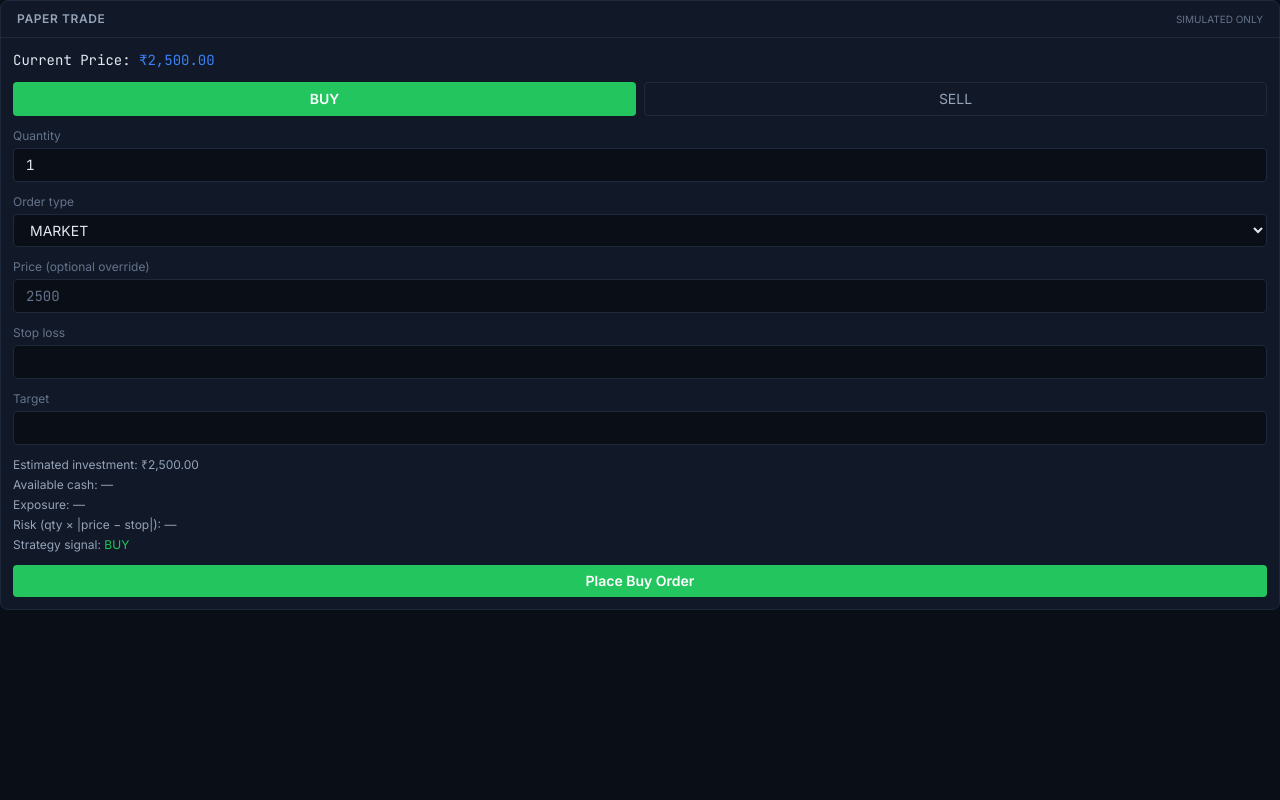
Test: TradePanel › submits a paper BUY with stop loss and target through the backend client
The image size is (1280, 800).
Replace the text in the number field labelled "Quantity" with "2" at coordinates (640, 165), box [13, 148, 1267, 182]
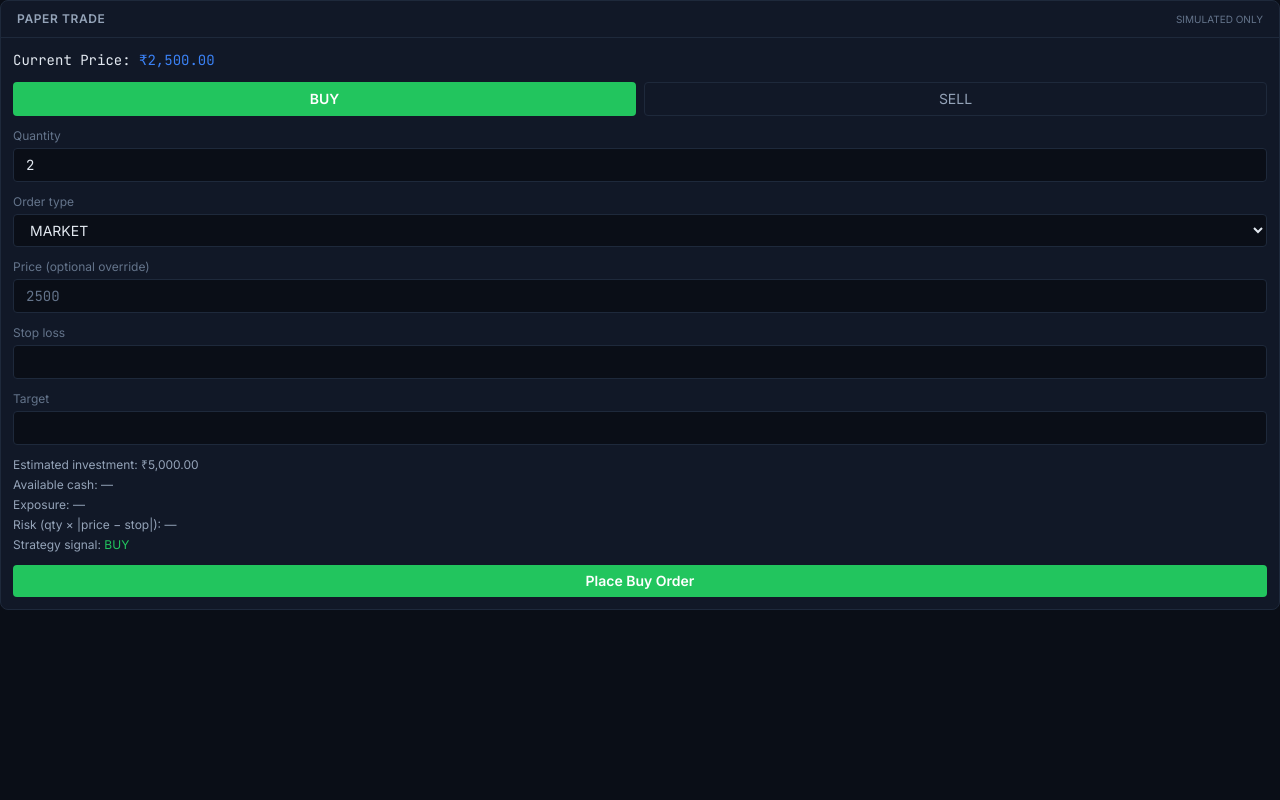
Type "2400" into the number field labelled "Stop loss" at coordinates (640, 362), box [13, 345, 1267, 379]
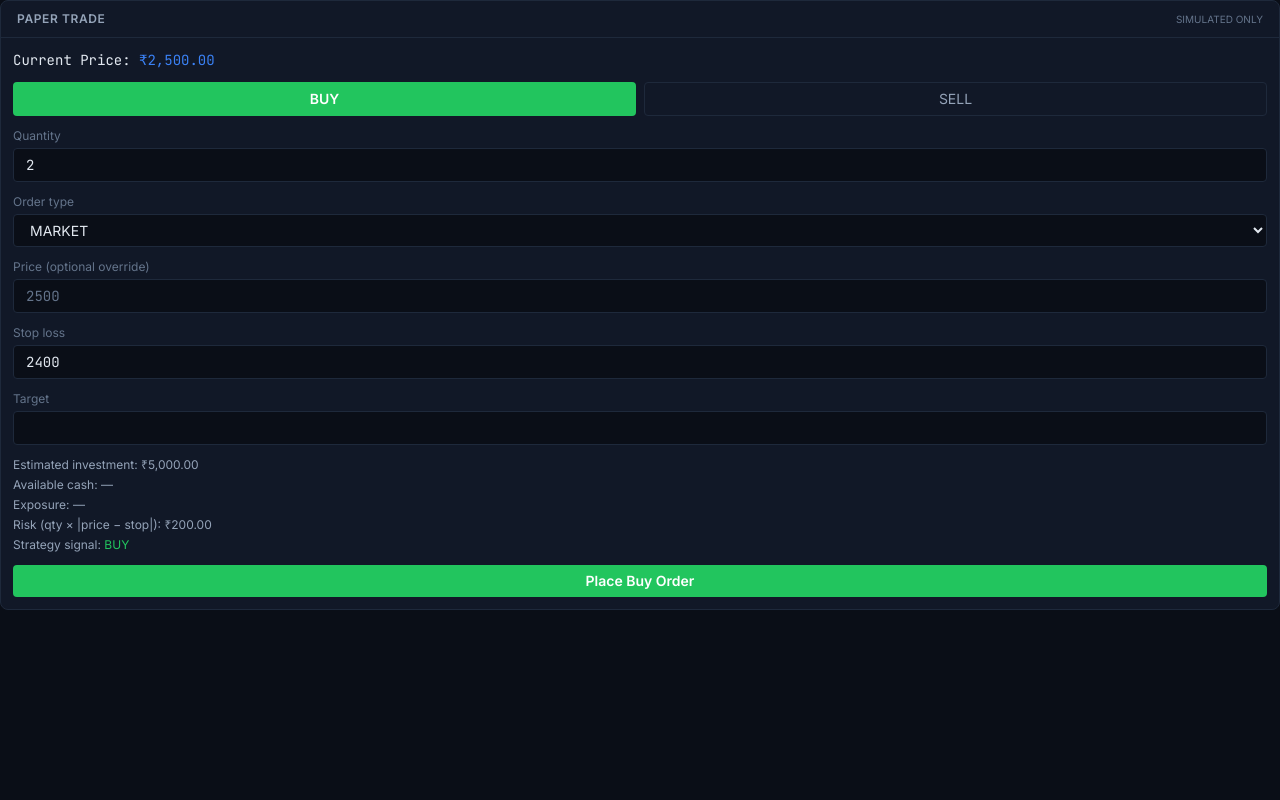
Type "2700" into the number field labelled "Target" at coordinates (640, 428), box [13, 411, 1267, 445]
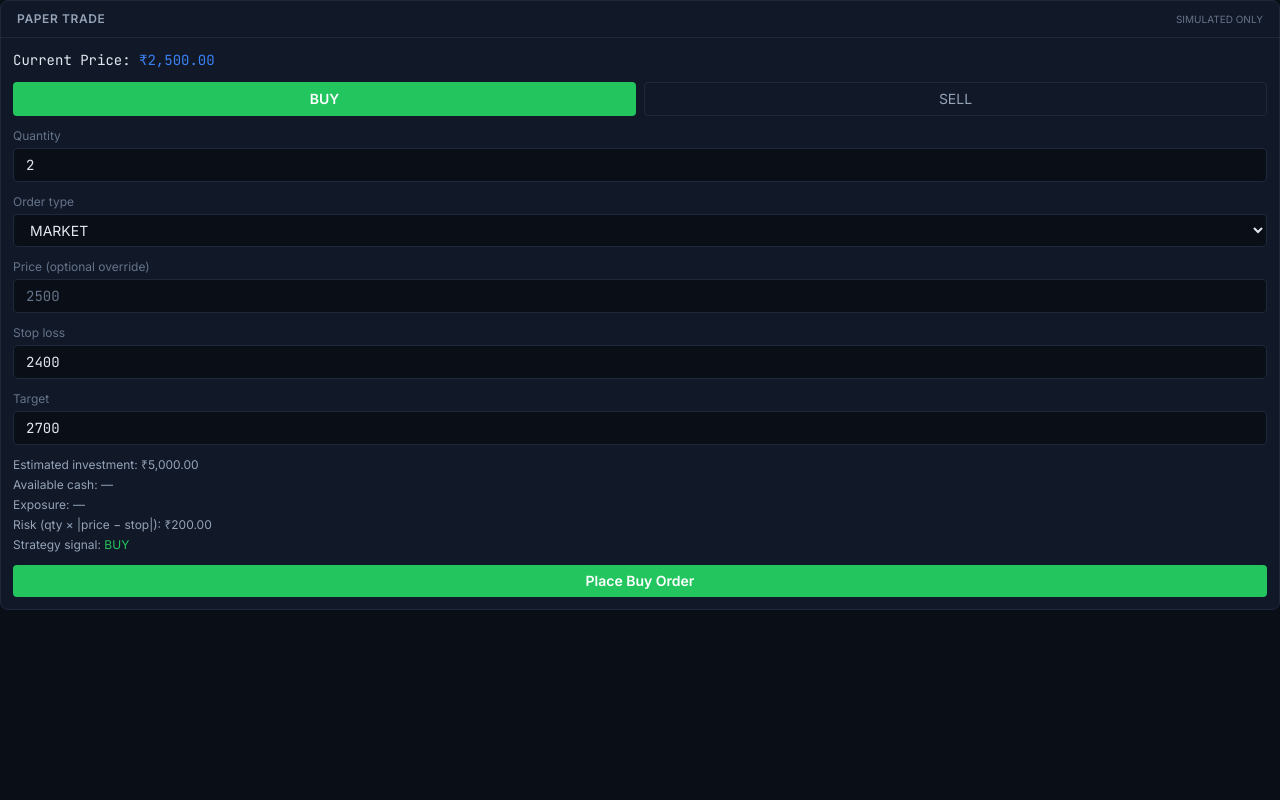
Click the button "Place Buy Order" at coordinates (640, 581), box [13, 565, 1267, 597]
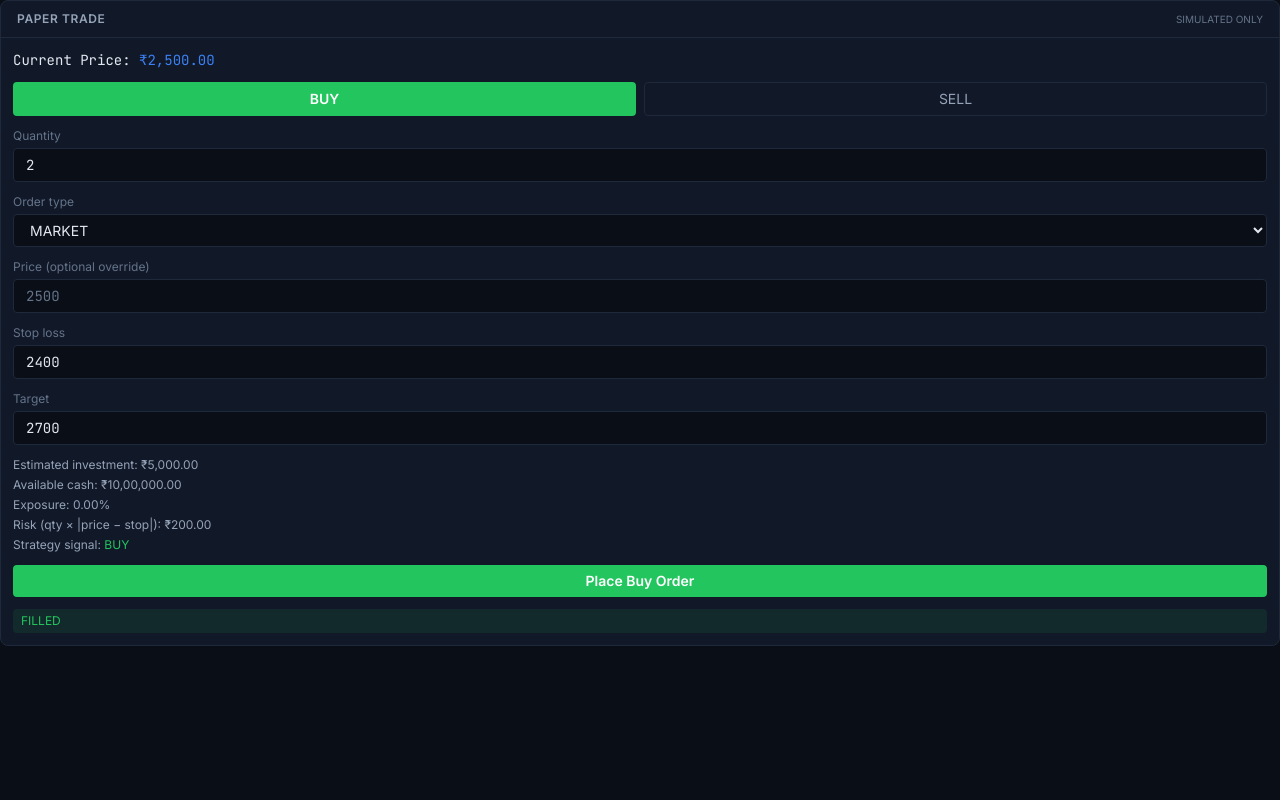
Check: the text "FILLED" is shown, box [13, 609, 1267, 633]
